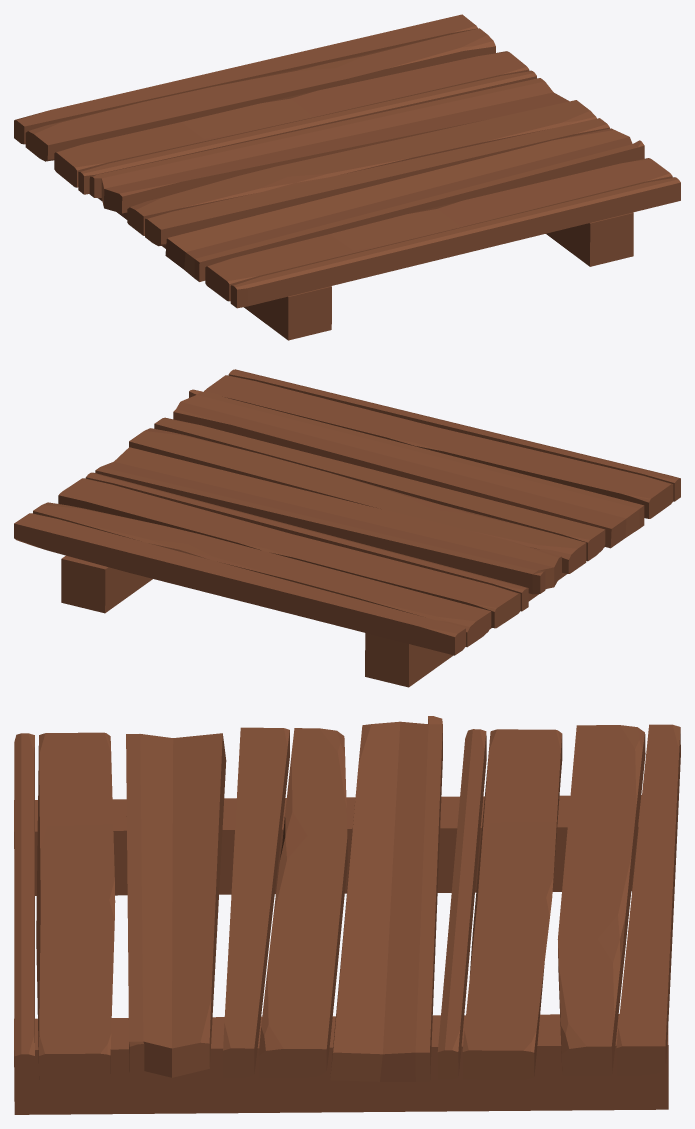
The model's file is wood_pallet.fbx.
3 renders of one model, top to bottom at view 1: azimuth 30°, elevation 25°; view 2: azimuth 150°, elevation 25°; view 3: azimuth 270°, elevation 25°, orthographic. The views are drawn at different scales.
Parts seen in each view (by area): view 1: Wood_pallet; view 2: Wood_pallet; view 3: Wood_pallet.
Boxes of the visible parts, bbox=[...] form: Wood_pallet: bbox=[14, 14, 680, 340]; Wood_pallet: bbox=[14, 369, 680, 687]; Wood_pallet: bbox=[14, 716, 680, 1114].
Bounding box in the file's own units: 667 × 104 × 577.
